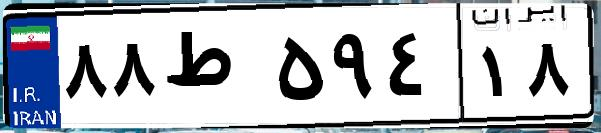1: (475, 38, 525, 113)
4: (385, 28, 445, 110)
5: (270, 28, 330, 110)
8: (57, 26, 110, 100), (525, 38, 570, 115), (110, 28, 158, 98)
9: (330, 28, 385, 110)
ط: (158, 20, 270, 120)
